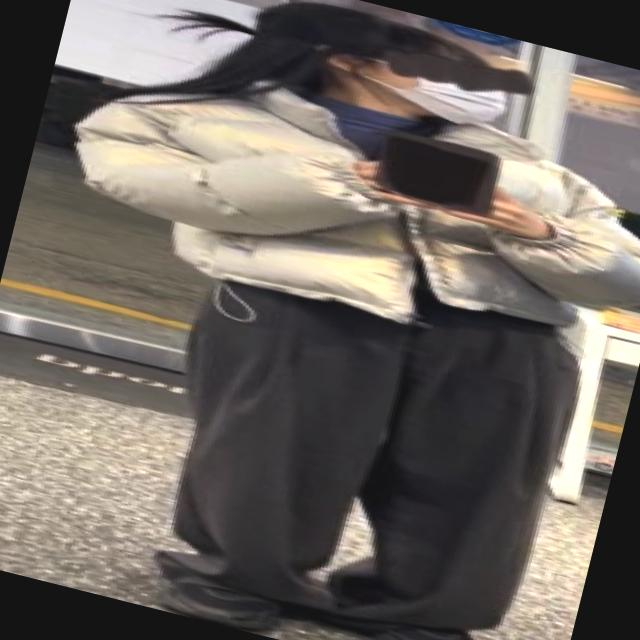padding: (42, 33, 640, 386)
slacks: (128, 236, 592, 640)
